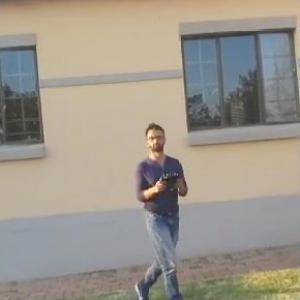follow: (136, 114, 202, 299)
